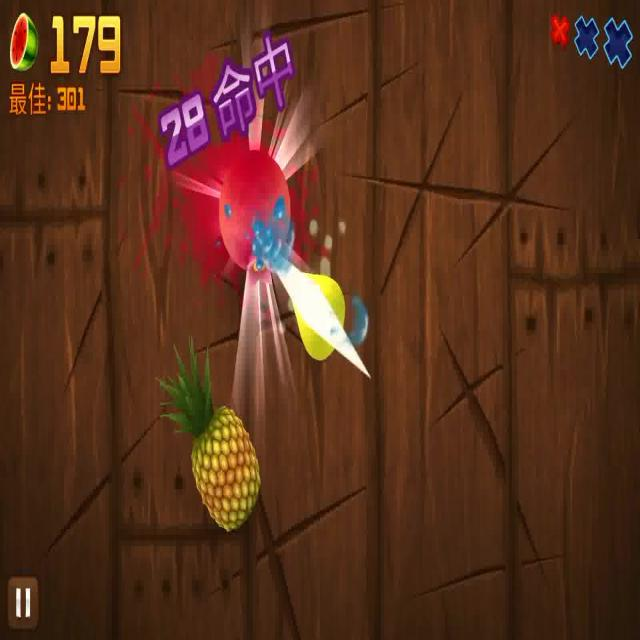fruit: (162, 339, 260, 536), (218, 158, 291, 266), (286, 272, 346, 362)
